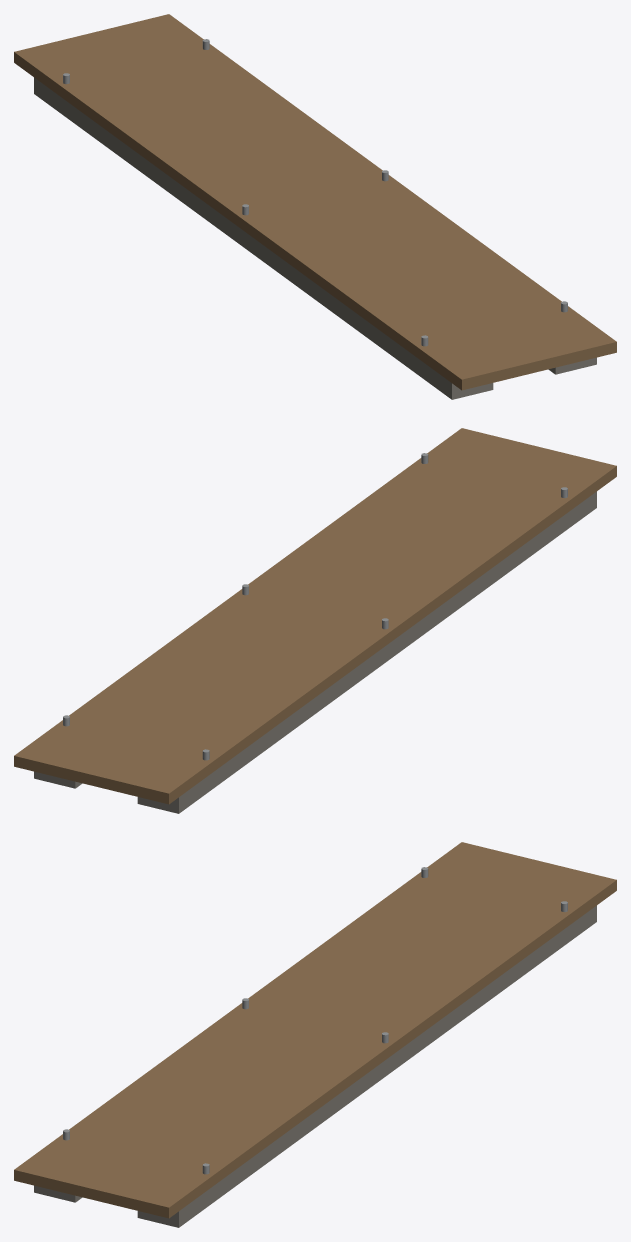
Rendered from tf_launch_dock_3x15m.glb.
3 renders of one model, top to bottom at view 1: azimuth 30°, elevation 25°; view 2: azimuth 150°, elevation 25°; view 3: azimuth 330°, elevation 25°, orthographic.
Visible parts, largest first — view 1: tf_launch_dock_3x15m; view 2: tf_launch_dock_3x15m; view 3: tf_launch_dock_3x15m.
Part boxes in pixels (x1=…): tf_launch_dock_3x15m: x1=14, y1=14, x2=616, y2=399; tf_launch_dock_3x15m: x1=14, y1=428, x2=616, y2=813; tf_launch_dock_3x15m: x1=14, y1=842, x2=616, y2=1227.
Size of what is drawn, in the model's own units: 3 by 0.75 by 15.
